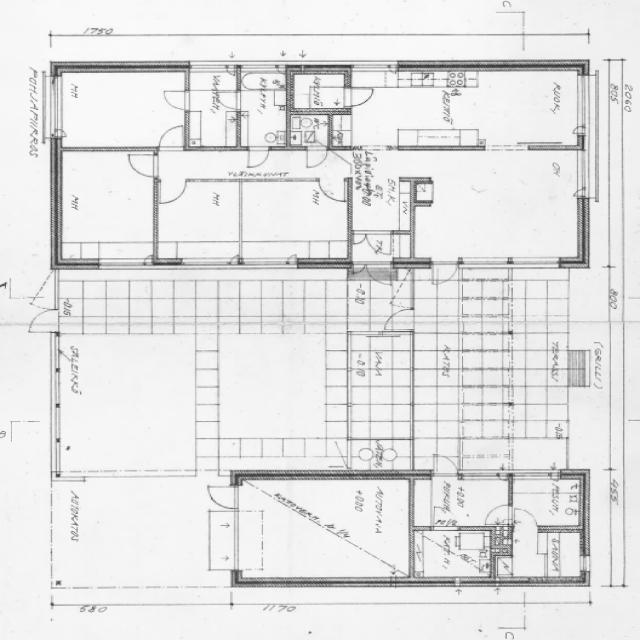door: (185, 70, 241, 150), (26, 306, 61, 336), (124, 151, 160, 180), (203, 483, 240, 511), (426, 257, 461, 286), (154, 122, 187, 150), (316, 178, 350, 205), (156, 178, 188, 206), (382, 307, 415, 334), (158, 87, 190, 112), (366, 230, 394, 258), (430, 452, 460, 477), (366, 260, 392, 288), (429, 505, 458, 530), (345, 85, 376, 108), (244, 145, 271, 171), (302, 145, 328, 172), (482, 502, 512, 525), (214, 88, 241, 111), (511, 506, 539, 528), (348, 230, 370, 247), (348, 261, 368, 279), (568, 124, 587, 137)
window: (44, 74, 66, 138), (573, 73, 594, 131), (176, 256, 238, 271), (95, 257, 152, 273), (239, 256, 296, 272), (573, 149, 591, 196), (511, 256, 561, 269), (482, 142, 529, 154), (512, 468, 556, 480), (460, 469, 503, 481), (425, 577, 456, 590), (43, 485, 56, 516), (374, 59, 401, 72), (449, 576, 467, 590), (578, 553, 590, 573)
zone: (52, 326, 216, 476), (48, 475, 223, 591), (413, 149, 582, 263), (210, 327, 347, 465), (239, 478, 412, 584), (56, 148, 156, 266), (53, 70, 192, 150), (468, 68, 586, 149), (240, 180, 351, 265), (154, 181, 241, 264), (238, 70, 343, 134), (494, 529, 584, 585), (416, 476, 512, 527), (186, 67, 240, 151), (412, 530, 493, 584), (239, 69, 289, 149), (510, 475, 584, 528), (402, 604, 487, 640), (288, 70, 349, 113), (540, 530, 584, 582)
